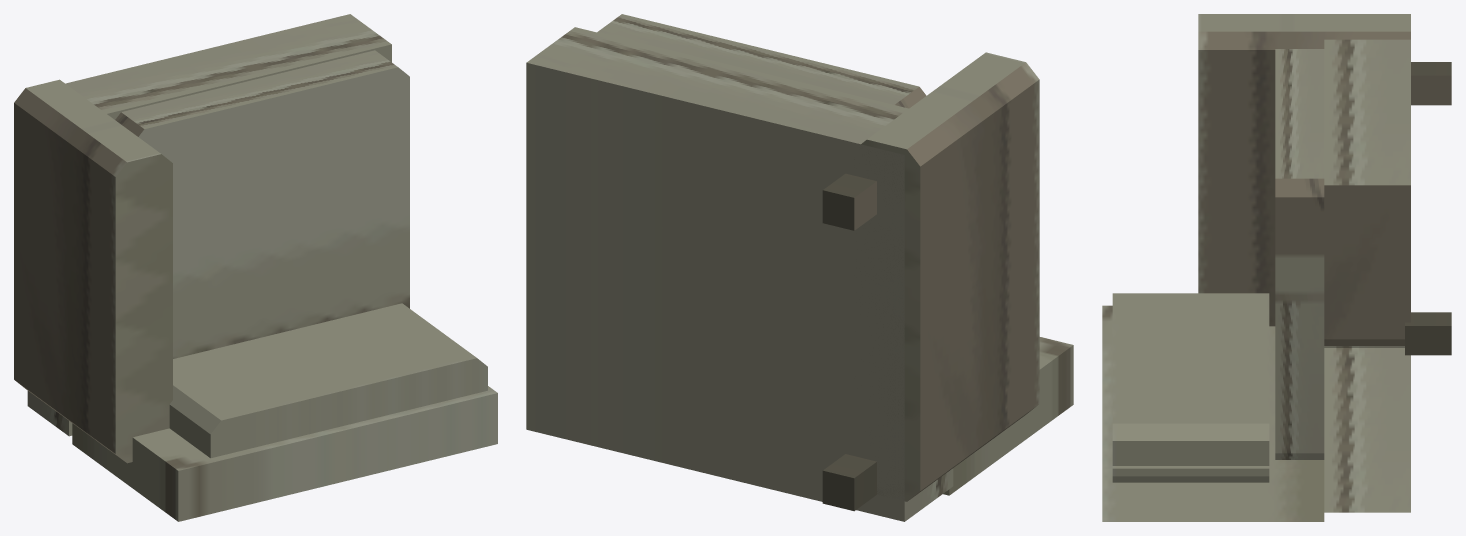
The model's file is pz_sofa_seating_indoor_03_light_blue_0_0.obj.
The picture shows the model from 3 angles, left to right: view 1: azimuth 30°, elevation 25°; view 2: azimuth 150°, elevation 25°; view 3: azimuth 270°, elevation 25°; orthographic projection. The views are drawn at different scales.
Size of the model in its own units: 1 by 0.93 by 0.86.
1 material, 1 textured.
